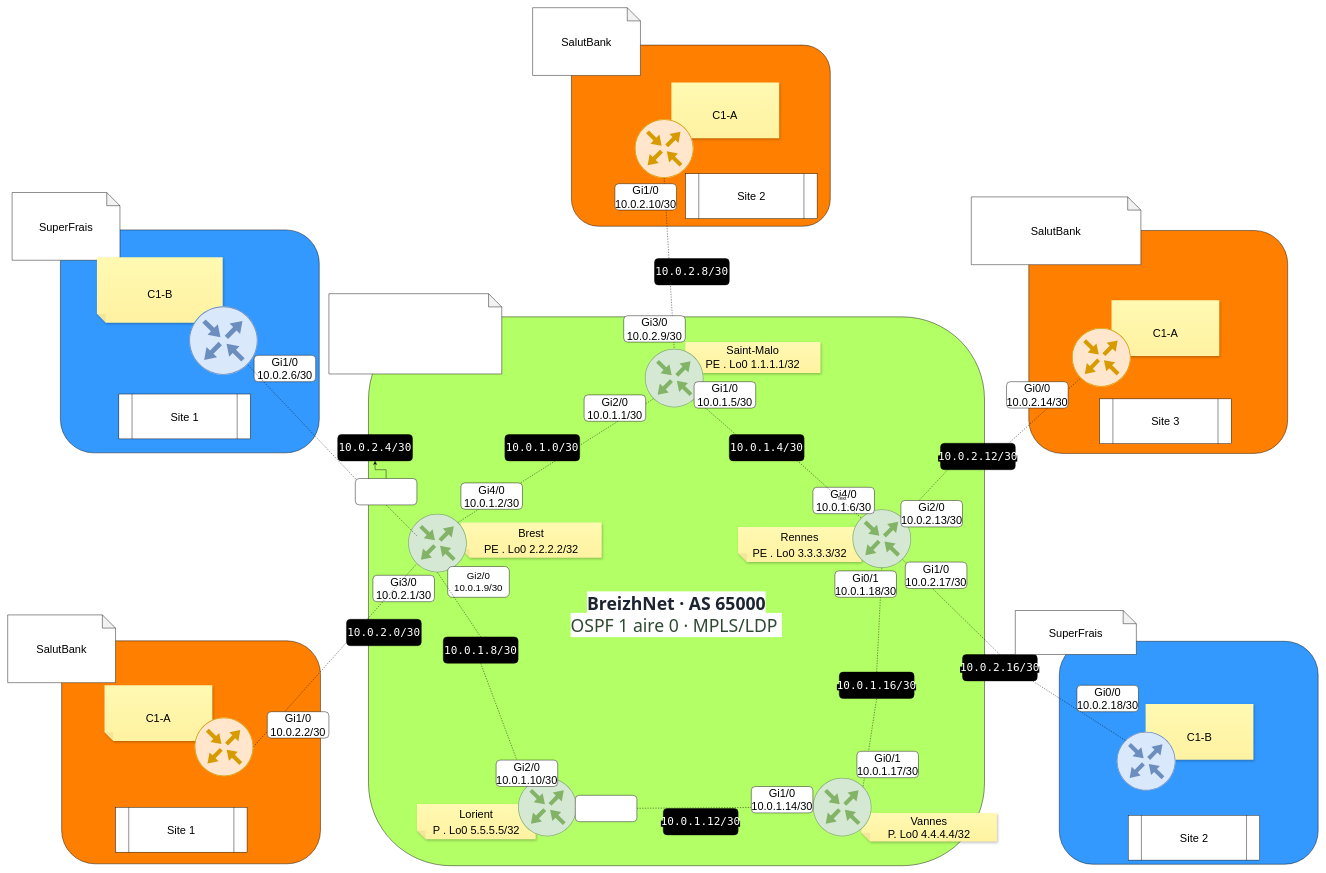
Some shapes in this 1326 by 873 pixel diagram are drawn without their labels. Here are the shapes that lost their labels. From the top down, the centre of each, then its label:
At point 415,333: "BreizhNet".
At point 386,491: "Gi1/0 10.0.2.5/30".
At point 606,808: "Gi1/0 10.0.1.13/30".
